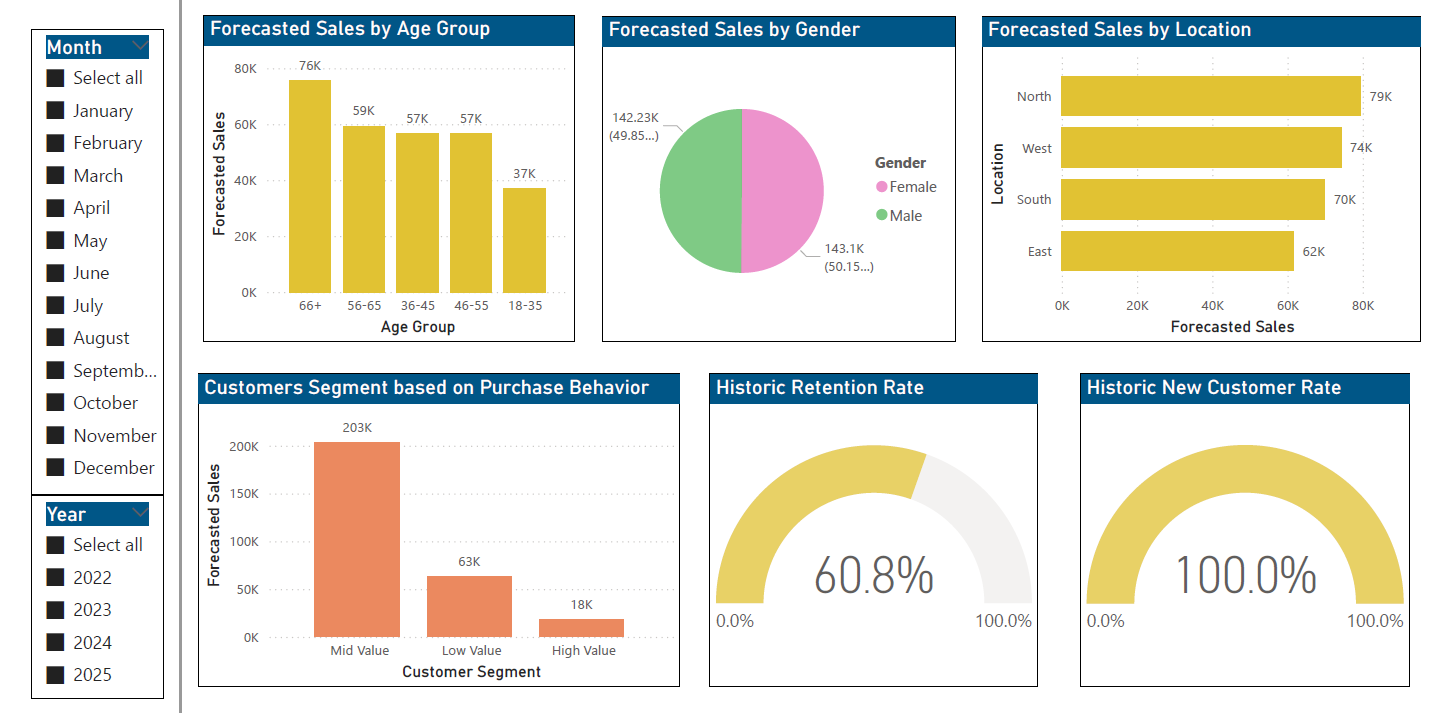

The page's visual inventory and layout, read from the dashboard file:
{"tool":"powerbi","page":{"name":"Customer Analysis","canvas":[1280,720],"ordinal":1},"visuals":[{"type":"shape","title":" Forecasting using Power BI","box":[0,0,1280.8,58.3],"z":0},{"type":"shape","box":[0,58.3,1280.8,14.6],"z":1000},{"type":"shape","box":[142.5,72.9,30.8,647.7],"z":2000},{"type":"slicer","fields":{"Values":["DateTable.Date.Variation.Date Hierarchy.Month"]},"box":[24.5,105.2,118.6,417],"z":3000},{"type":"clusteredColumnChart","title":"Customers Segment based on Purchase Behavior","fields":{"Y":["Sales.ForecastedSales"],"Category":["Customers.CustomerSegment"]},"box":[173.3,412.9,430.7,280.1],"z":4000},{"type":"clusteredColumnChart","title":"Forecasted Sales by Age Group","fields":{"Category":["Customers.AgeGroup"],"Y":["Sales.ForecastedSales"]},"box":[177.6,93.4,331.9,291.5],"z":5000},{"type":"pieChart","title":"Forecasted Sales by Gender","fields":{"Category":["Customers.Gender"],"Y":["Sales.ForecastedSales"]},"box":[534.3,93.9,315.7,291.5],"z":6000},{"type":"clusteredBarChart","title":"Forecasted Sales by Location","fields":{"Category":["Customers.Location"],"Y":["Sales.ForecastedSales"]},"box":[872.8,93.9,393.5,291.5],"z":7000},{"type":"slicer","fields":{"Values":["DateTable.Year"]},"box":[24.5,522.1,118.6,182.2],"z":8000},{"type":"gauge","title":"Historic Retention Rate","fields":{"Y":["Sales.RetentionRate"]},"box":[629.8,413.3,294.7,280],"z":9000},{"type":"gauge","title":"Historic New Customer Rate","fields":{"Y":["Sales.NewCustomerRate"]},"box":[961.1,413.3,294.7,280],"z":10000}]}

Visuals, with their boxes on the page's 1280x720 design canvas (x1, y1, x2, y2). These are canvas units, not pixel positions in the 1437x713 screenshot, which may show the page scaled, cropped or inside an application window:
" Forecasting using Power BI" shape: select_region(0, 0, 1281, 58)
shape: select_region(0, 58, 1281, 73)
shape: select_region(142, 73, 173, 721)
slicer - DateTable.Date.Variation.Date Hierarchy.Month: select_region(24, 105, 143, 522)
"Customers Segment based on Purchase Behavior" clusteredColumnChart: select_region(173, 413, 604, 693)
"Forecasted Sales by Age Group" clusteredColumnChart: select_region(178, 93, 510, 385)
"Forecasted Sales by Gender" pieChart: select_region(534, 94, 850, 385)
"Forecasted Sales by Location" clusteredBarChart: select_region(873, 94, 1266, 385)
slicer - DateTable.Year: select_region(24, 522, 143, 704)
"Historic Retention Rate" gauge: select_region(630, 413, 924, 693)
"Historic New Customer Rate" gauge: select_region(961, 413, 1256, 693)
